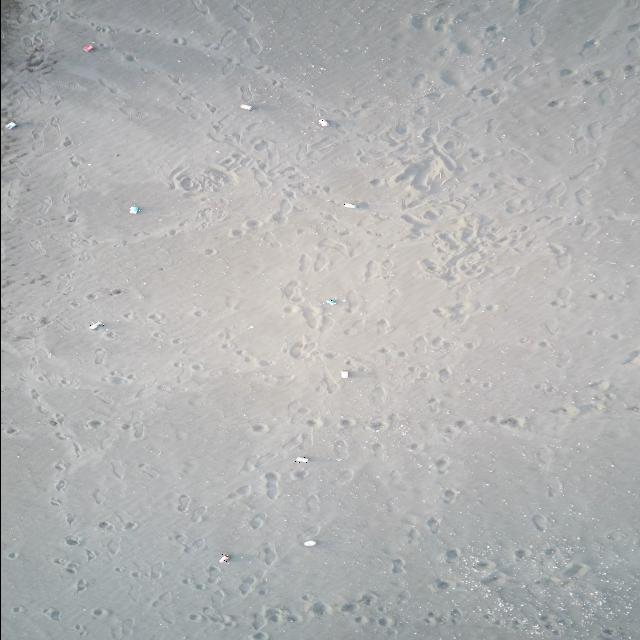Garbage: (88, 320, 103, 329), (219, 553, 230, 563), (128, 204, 140, 212), (81, 44, 94, 51), (4, 120, 15, 128), (240, 103, 251, 110), (324, 298, 336, 304), (344, 201, 356, 207), (304, 540, 316, 546), (296, 456, 307, 462), (340, 369, 347, 377), (320, 118, 328, 125)
